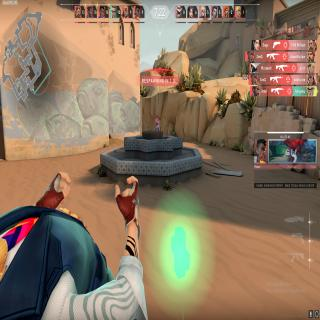ENEMY-BODY: (154, 115, 160, 132)
ENEMY-HEAD: (156, 116, 158, 120)
